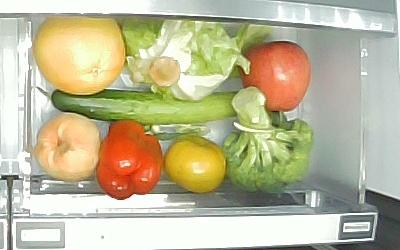apple: (240, 41, 313, 112)
broccoli: (225, 87, 316, 195)
cucumber: (33, 84, 238, 124)
grapefruit: (33, 17, 126, 96)
lettuce: (121, 16, 242, 101)
paprika: (97, 121, 164, 200)
peach: (36, 113, 100, 180)
persimmon: (163, 134, 225, 194)
